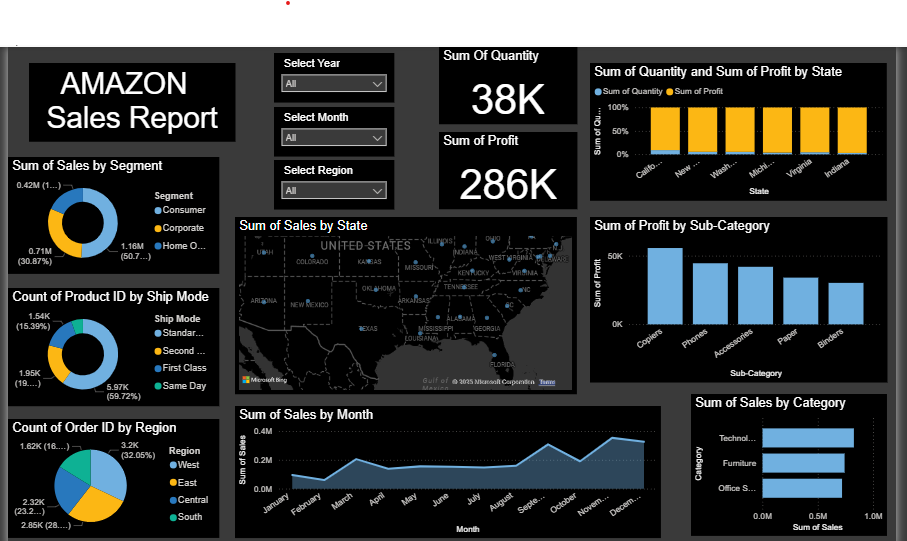

This screenshot's page, from the dashboard's own definition file:
{"tool":"powerbi","page":{"name":"Amazon_Sales_Report","canvas":[1280,720],"ordinal":0},"visuals":[{"type":"clusteredBarChart","fields":{"Category":["Table2.Category"],"Y":["Sum(Table2.Sales)"]},"box":[983.5,499.7,282.2,204.5],"z":0},{"type":"clusteredColumnChart","fields":{"Category":["Table2.Sub-Category"],"Y":["Sum(Table2.Profit)"]},"box":[838.1,244.8,427.7,237.6],"z":1000},{"type":"donutChart","fields":{"Category":["Table2.Segment"],"Y":["Sum(Table2.Sales)"]},"box":[0,158.4,303.8,168.5],"z":2000},{"type":"pieChart","fields":{"Y":["CountNonNull(Table2.Order ID)"],"Category":["Table2.Region"]},"box":[0,535.7,303.8,171.4],"z":3000},{"type":"donutChart","fields":{"Category":["Table2.Ship Mode"],"Y":["CountNonNull(Table2.Product ID)"]},"box":[0,347,303.8,169.9],"z":4000},{"type":"map","fields":{"Category":["Table2.State"]},"box":[326.9,244.8,492.5,254.9],"z":5000},{"type":"stackedAreaChart","fields":{"Category":["Table2.Order Date.Variation.Date Hierarchy.Month"],"Y":["Sum(Table2.Sales)"]},"box":[326.9,517,613.4,190.1],"z":6000},{"type":"hundredPercentStackedColumnChart","fields":{"Y":["Sum(Table2.Quantity)","Sum(Table2.Profit)"],"Category":["Table2.State"]},"box":[838.5,23.4,427.3,197.6],"z":7000},{"type":"cardVisual","title":"Sum Of Quantity","fields":{"Data":["Sum(Table2.Quantity)"]},"box":[620.6,0,198.7,110.9],"z":8000},{"type":"cardVisual","title":"Sum of Profit","fields":{"Data":["Sum(Table2.Profit)"]},"box":[620.5,122.9,199,111.2],"z":9000},{"type":"slicer","fields":{"Values":["Table2.Order Date.Variation.Date Hierarchy.Year"]},"box":[383,8.6,172.8,70.6],"z":10000},{"type":"slicer","fields":{"Values":["Table2.Region"]},"box":[383,162.7,172.8,70.6],"z":11000},{"type":"slicer","fields":{"Values":["Table2.Order Date.Variation.Date Hierarchy.Month"]},"box":[383,86.4,172.8,70.6],"z":12000},{"type":"textbox","box":[30.7,23.4,297.1,112.7],"z":13000}]}

Visuals, with their boxes on the page's 1280x720 design canvas (x1, y1, x2, y2). These are canvas units, not pixel positions in the 907x541 screenshot, which may show the page scaled, cropped or inside an application window:
clusteredBarChart - Table2.Category x Sum(Table2.Sales): l=984, t=500, r=1266, b=704
clusteredColumnChart - Table2.Sub-Category x Sum(Table2.Profit): l=838, t=245, r=1266, b=482
donutChart - Table2.Segment x Sum(Table2.Sales): l=0, t=158, r=304, b=327
pieChart - CountNonNull(Table2.Order ID) x Table2.Region: l=0, t=536, r=304, b=707
donutChart - Table2.Ship Mode x CountNonNull(Table2.Product ID): l=0, t=347, r=304, b=517
map - Table2.State: l=327, t=245, r=819, b=500
stackedAreaChart - Table2.Order Date.Variation.Date Hierarchy.Month x Sum(Table2.Sales): l=327, t=517, r=940, b=707
hundredPercentStackedColumnChart - Sum(Table2.Quantity) x Sum(Table2.Profit): l=838, t=23, r=1266, b=221
"Sum Of Quantity" cardVisual: l=621, t=0, r=819, b=111
"Sum of Profit" cardVisual: l=620, t=123, r=820, b=234
slicer - Table2.Order Date.Variation.Date Hierarchy.Year: l=383, t=9, r=556, b=79
slicer - Table2.Region: l=383, t=163, r=556, b=233
slicer - Table2.Order Date.Variation.Date Hierarchy.Month: l=383, t=86, r=556, b=157
textbox: l=31, t=23, r=328, b=136
